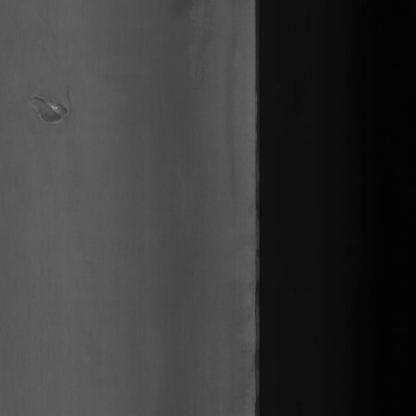rolled_pit: (26, 81, 80, 135)
